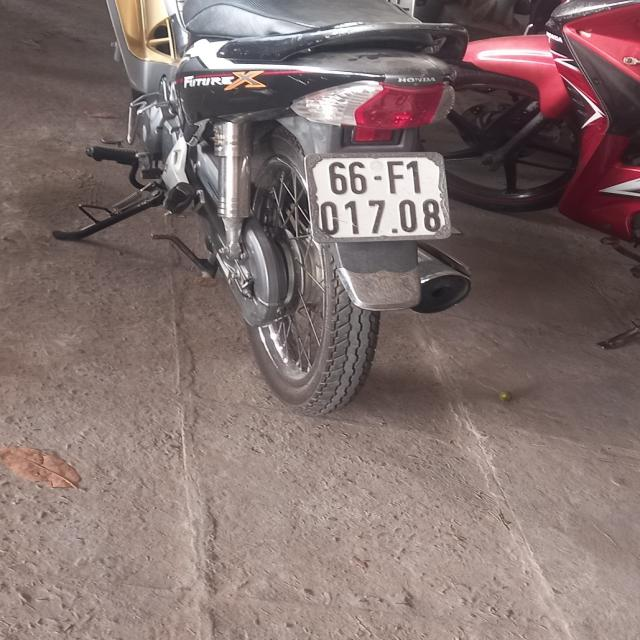0: (320, 201, 340, 237), (398, 199, 417, 234)
1: (343, 200, 360, 234), (406, 160, 422, 193)
6: (327, 161, 347, 195), (348, 161, 367, 194)
7: (368, 199, 384, 234)
8: (422, 198, 443, 231)
F: (386, 161, 405, 192)
